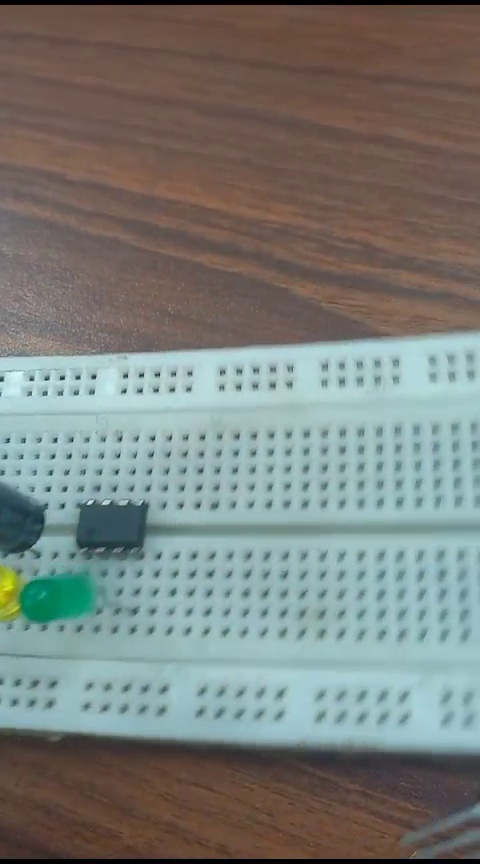IC: (78, 488, 154, 556)
LED: (20, 571, 95, 632)
capacitor: (6, 471, 46, 553)
